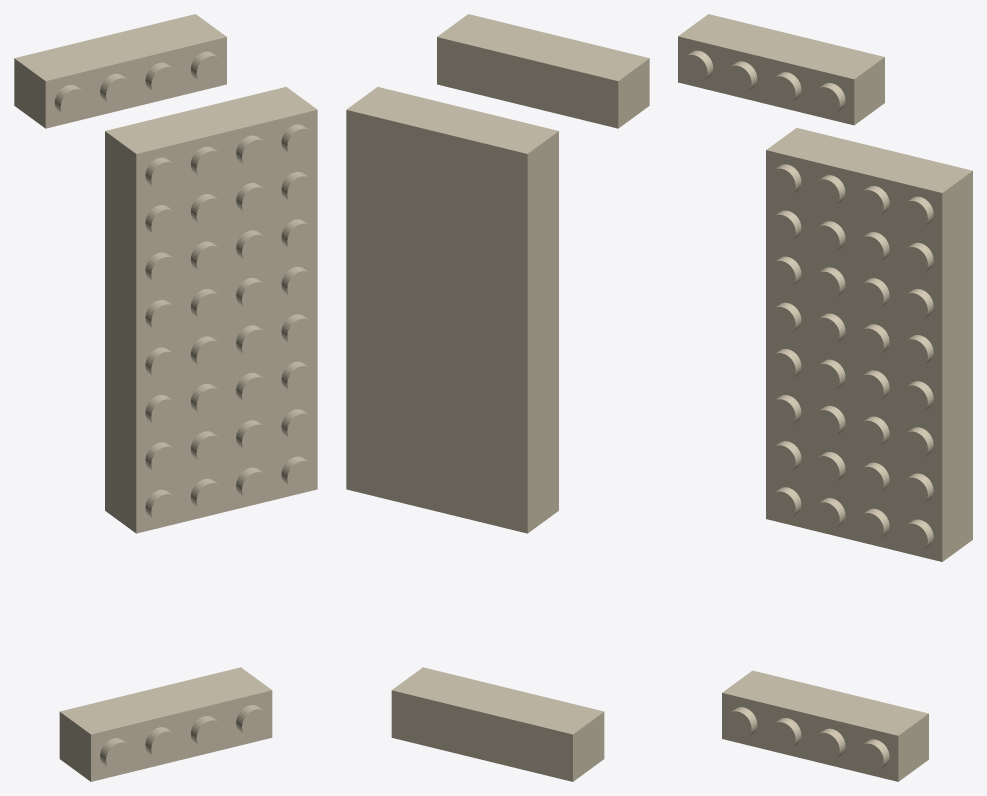
Rendered from current.glb.
The picture shows the model from 3 angles, left to right: view 1: azimuth 30°, elevation 25°; view 2: azimuth 150°, elevation 25°; view 3: azimuth 330°, elevation 25°; orthographic projection. The views are drawn at different scales.
Visible parts, largest first — view 1: world; view 2: world; view 3: world.
Boxes of the visible parts, box(x1,y1,x2,y2) form: world: box(14, 14, 317, 781); world: box(346, 14, 649, 781); world: box(678, 14, 972, 781).
Bounding box in the file's own units: 48 × 120 × 11.4.
